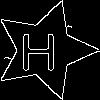H: (19, 25, 58, 70)
